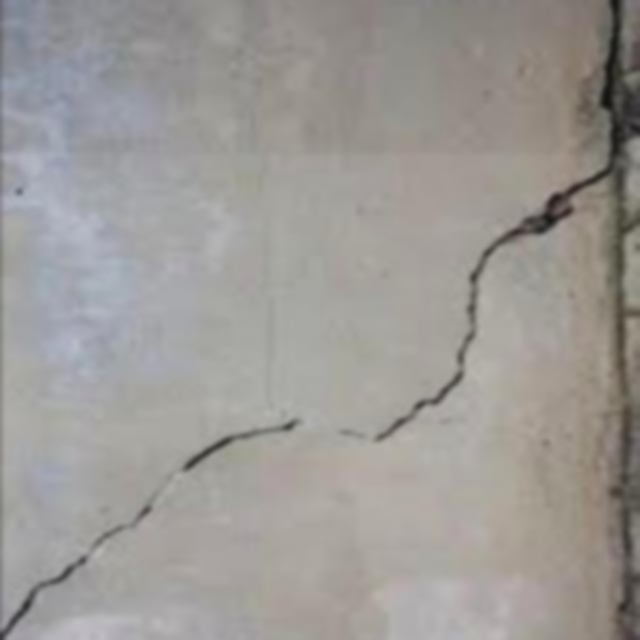SurfaceCrack: (0, 12, 626, 640)
